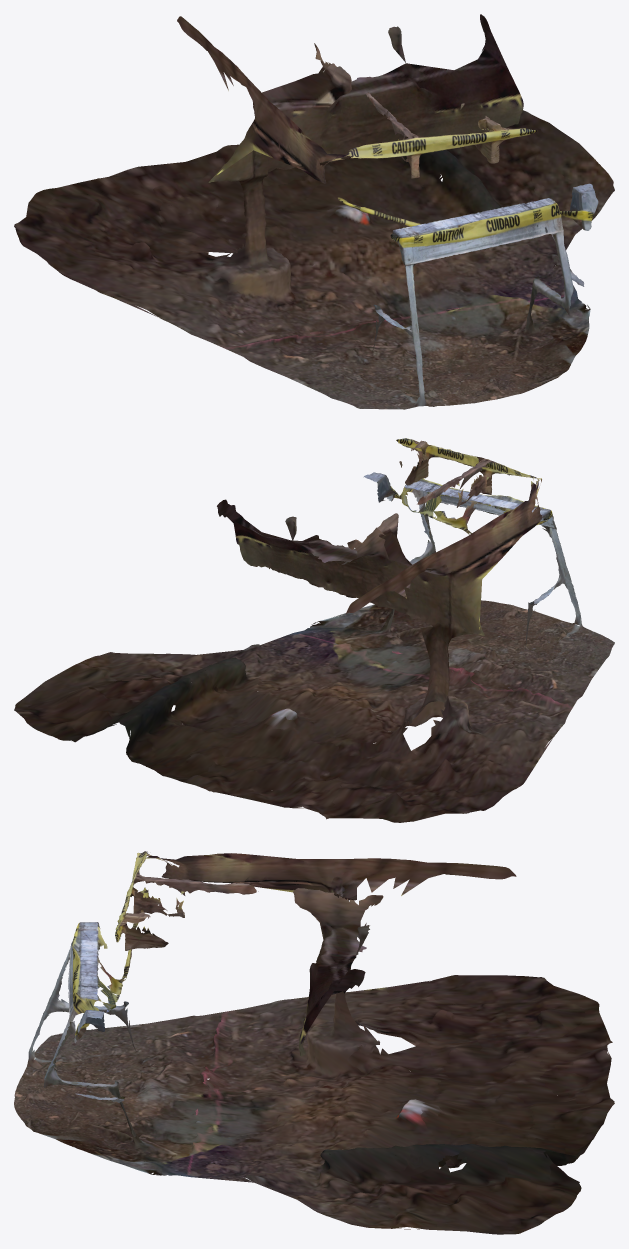
The model's file is caution_tape_3.glb.
3 views of the same model, one above another, from view 1: azimuth 30°, elevation 25°; view 2: azimuth 150°, elevation 25°; view 3: azimuth 270°, elevation 25° (orthographic). The views are drawn at different scales.
Visible parts, largest first — view 1: Object_2, Object_3; view 2: Object_2, Object_3; view 3: Object_2, Object_3.
Part boxes in pixels (box(x1,y1,x2,y2)): Object_2: box(14, 14, 614, 409); Object_3: box(84, 22, 607, 406); Object_2: box(14, 439, 614, 822); Object_3: box(29, 438, 579, 798); Object_2: box(14, 851, 614, 1234); Object_3: box(14, 878, 584, 1227).
Size of the model in its own units: 2.68 by 1.09 by 2.74.
1 material, 1 textured.
